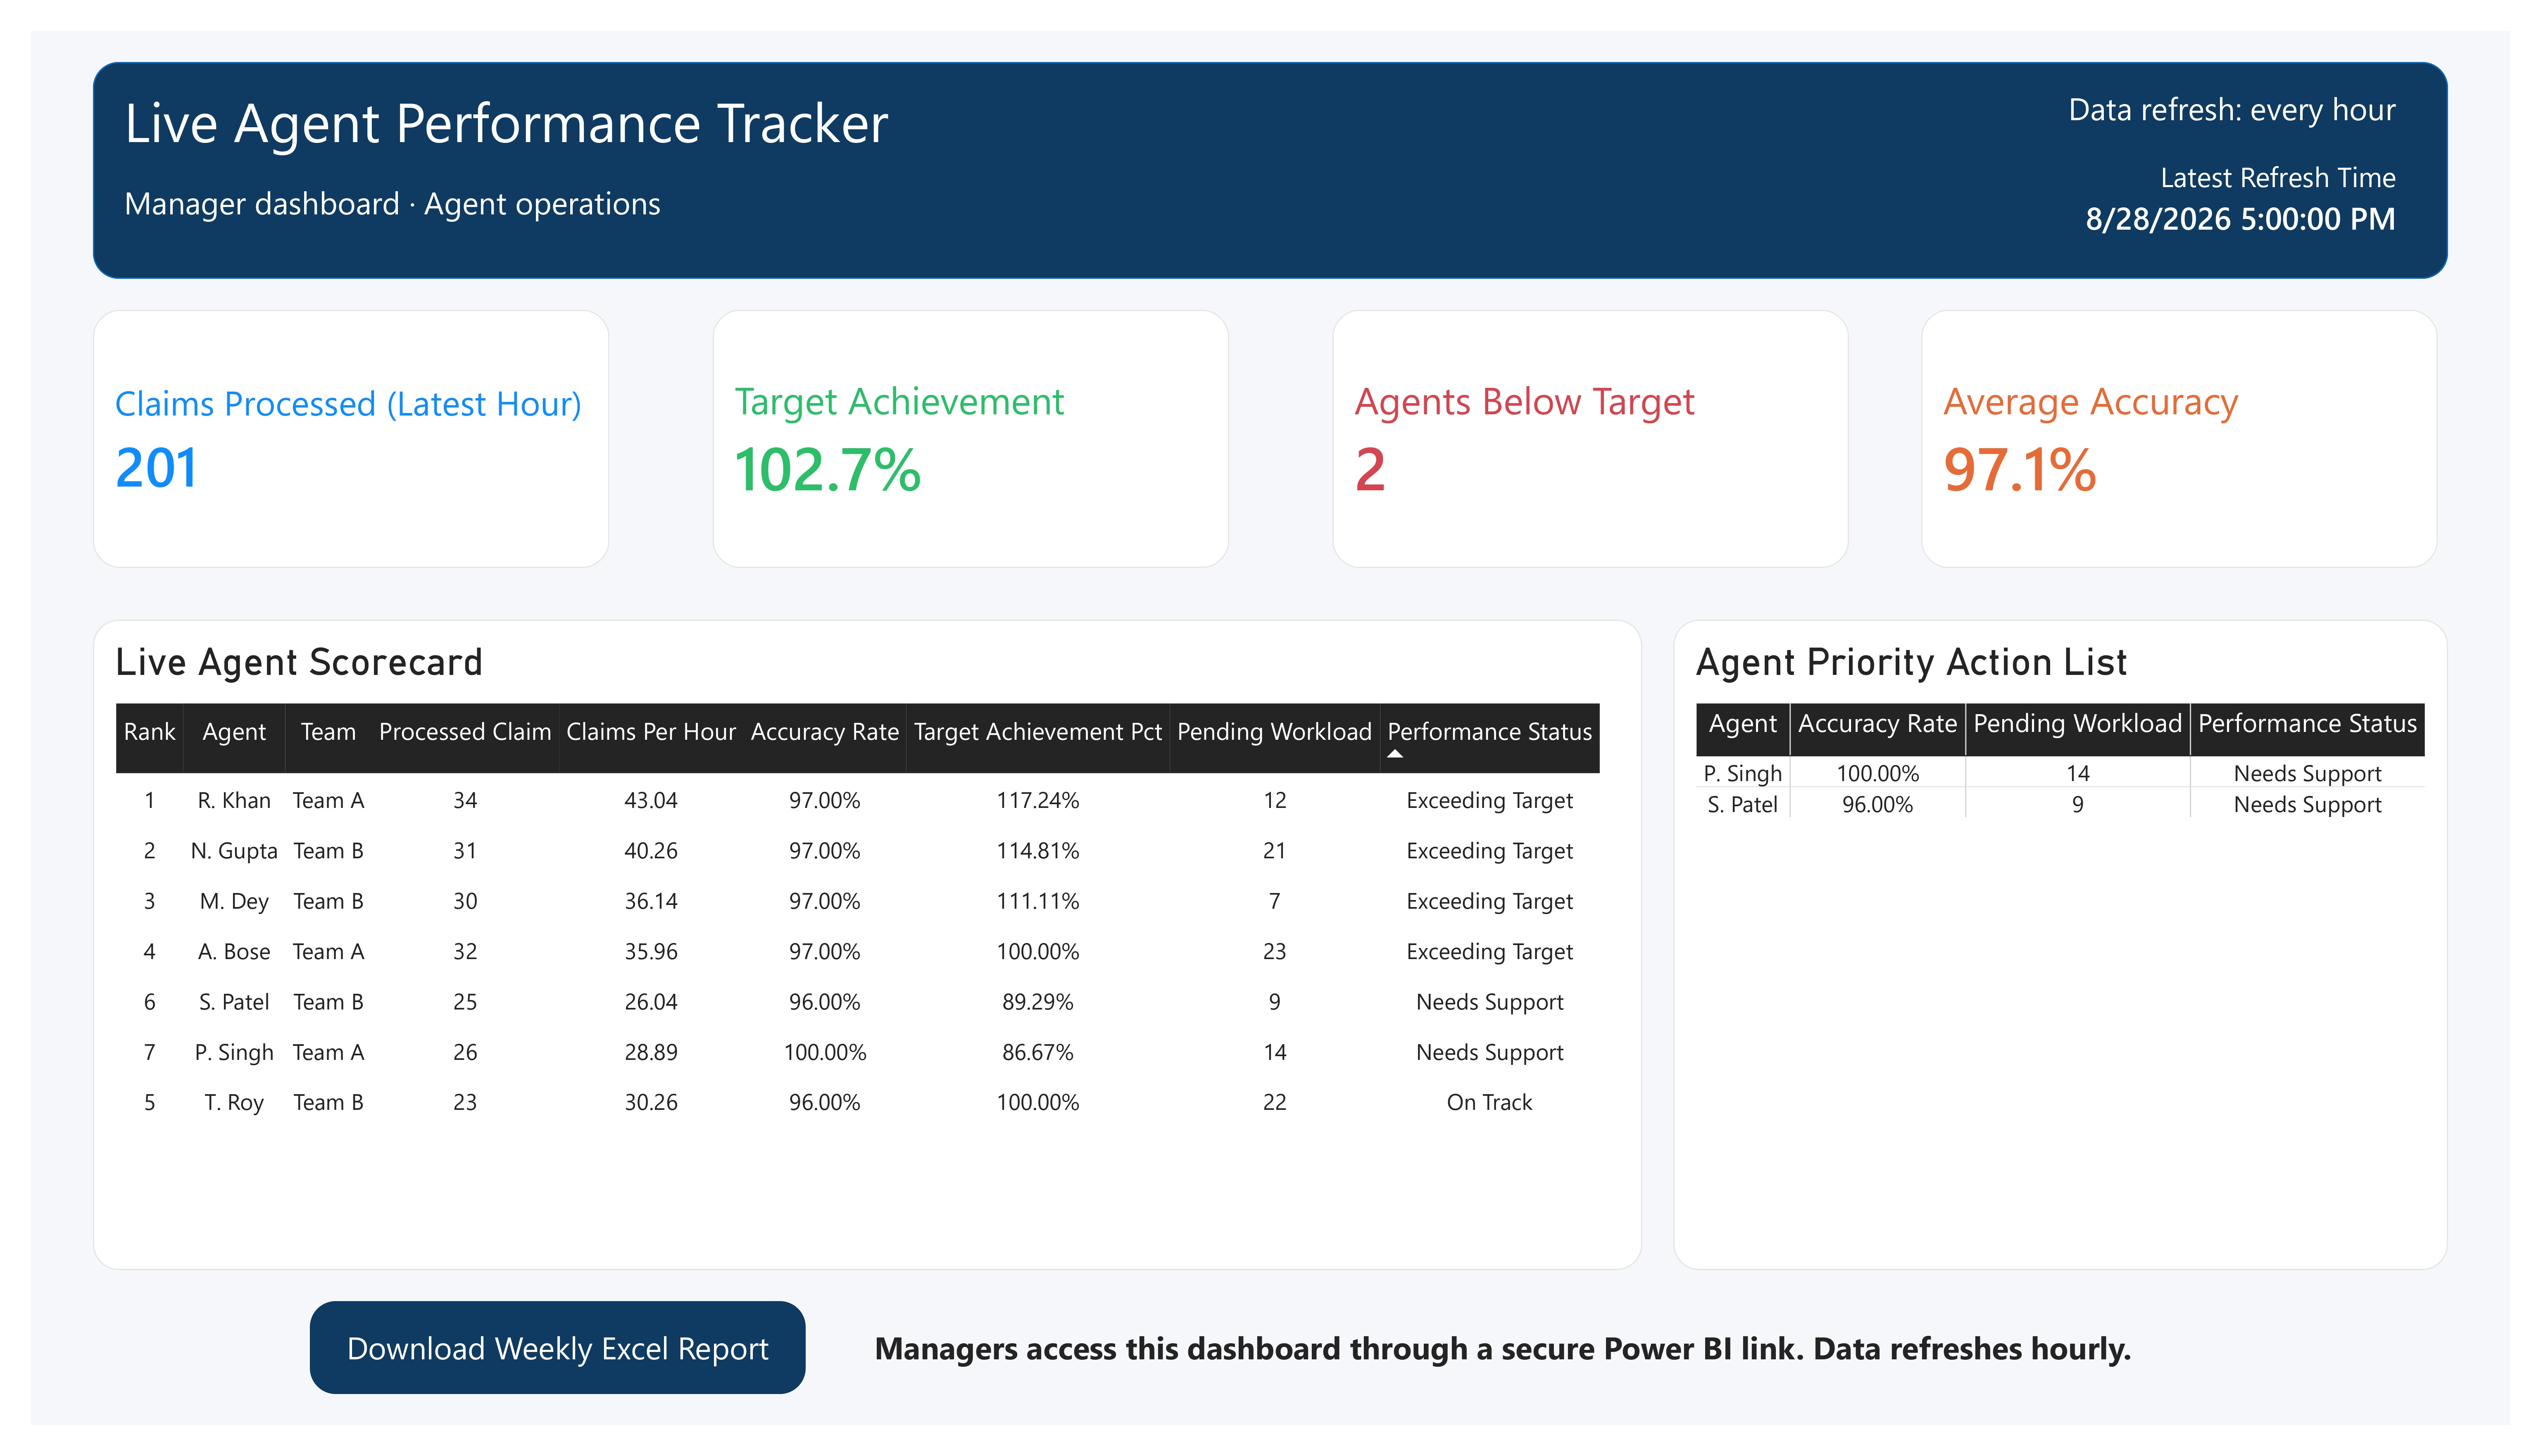

The page's visual inventory and layout, read from the dashboard file:
{"tool":"powerbi","page":{"name":"Live Agent Performance Tracker","canvas":[1920,1080],"ordinal":0},"visuals":[{"type":"cardVisual","fields":{"Data":["Measure.Total Claims Processed"]},"box":[48,216,400,200],"z":0},{"type":"cardVisual","fields":{"Data":["Measure.Average Accuracy"]},"box":[1464,216,400,200],"z":1000},{"type":"cardVisual","fields":{"Data":["Measure.Average Target Achievement"]},"box":[528,216,400,200],"z":2000},{"type":"cardVisual","fields":{"Data":["Measure.Agents Below Target"]},"box":[1008,216,400,200],"z":3000},{"type":"tableEx","title":"Live Agent Scorecard","fields":{"Values":["rcm_live_tracker vw_live_agent_performance.performance_rank","rcm_live_tracker vw_live_agent_performance.agent_name","rcm_live_tracker vw_live_agent_performance.team","rcm_live_tracker vw_live_agent_performance.claims_processed","rcm_live_tracker vw_live_agent_performance.claims_per_hour","rcm_live_tracker vw_live_agent_performance.accuracy_rate","rcm_live_tracker vw_live_agent_performance.target_achievement_pct","rcm_live_tracker vw_live_agent_performance.pending_workload","rcm_live_tracker vw_live_agent_performance.performance_status"]},"box":[48,456,1200,504],"z":4000},{"type":"tableEx","title":"Agent Priority Action List","fields":{"Values":["rcm_live_tracker vw_live_agent_performance.agent_name","rcm_live_tracker vw_live_agent_performance.accuracy_rate","rcm_live_tracker vw_live_agent_performance.pending_workload","rcm_live_tracker vw_live_agent_performance.performance_status"]},"box":[1272,456,600,504],"z":5000},{"type":"shape","box":[48,24,1824,168],"z":6000},{"type":"textbox","box":[72,40,1728,140],"z":7000},{"type":"textbox","box":[1200,24,648,72],"z":8000},{"type":"cardVisual","fields":{"Data":["Measure.Latest Refresh Time"]},"box":[1488,94,360,72],"z":9000},{"type":"actionButton","box":[216,984,384,72],"z":10000},{"type":"textbox","box":[216,984,384,72],"z":11000},{"type":"textbox","box":[576,984,1128,72],"z":12000}]}

Visuals, with their boxes on the page's 1920x1080 design canvas (x1, y1, x2, y2). These are canvas units, not pixel positions in the 2541x1456 screenshot, which may show the page scaled, cropped or inside an application window:
cardVisual - Measure.Total Claims Processed: <box>48,216,448,416</box>
cardVisual - Measure.Average Accuracy: <box>1464,216,1864,416</box>
cardVisual - Measure.Average Target Achievement: <box>528,216,928,416</box>
cardVisual - Measure.Agents Below Target: <box>1008,216,1408,416</box>
"Live Agent Scorecard" tableEx: <box>48,456,1248,960</box>
"Agent Priority Action List" tableEx: <box>1272,456,1872,960</box>
shape: <box>48,24,1872,192</box>
textbox: <box>72,40,1800,180</box>
textbox: <box>1200,24,1848,96</box>
cardVisual - Measure.Latest Refresh Time: <box>1488,94,1848,166</box>
actionButton: <box>216,984,600,1056</box>
textbox: <box>216,984,600,1056</box>
textbox: <box>576,984,1704,1056</box>
